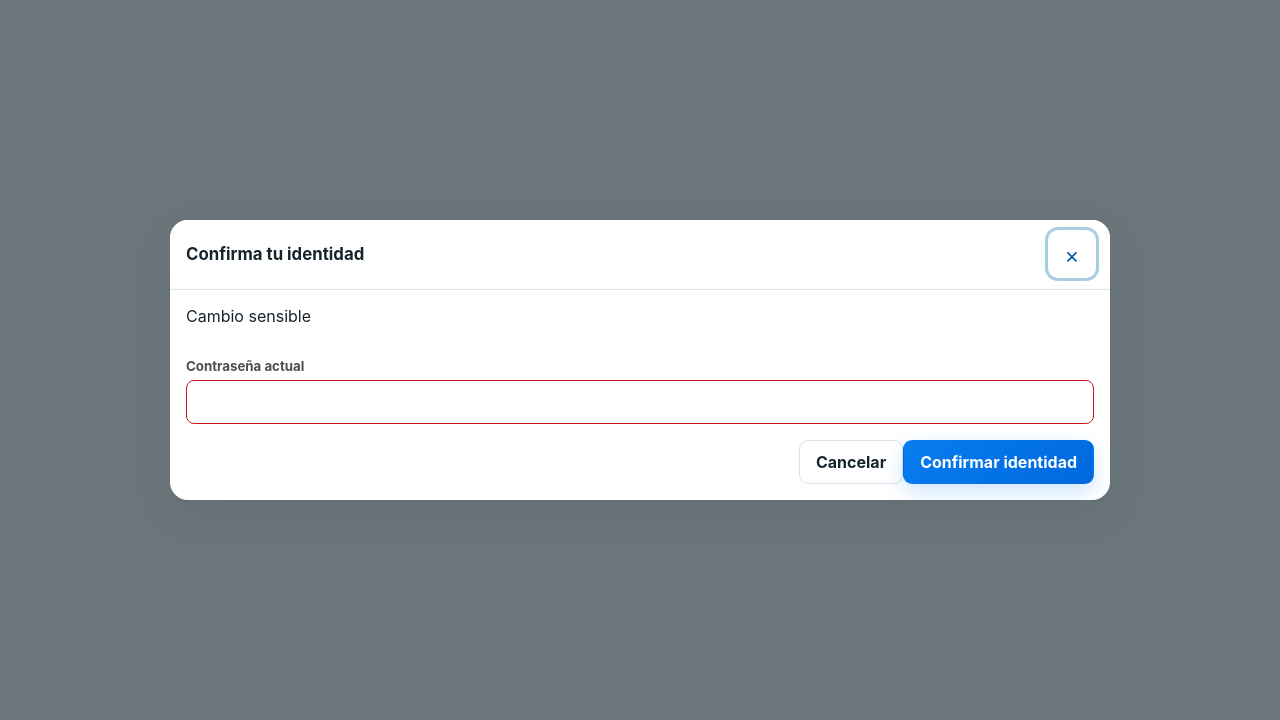
Test: ReauthenticationModal › maps an incorrect password without invoking the protected mutation
In the password field labelled "Contraseña actual": (640, 402) [186,380,1094,424], type "Incorrecta"
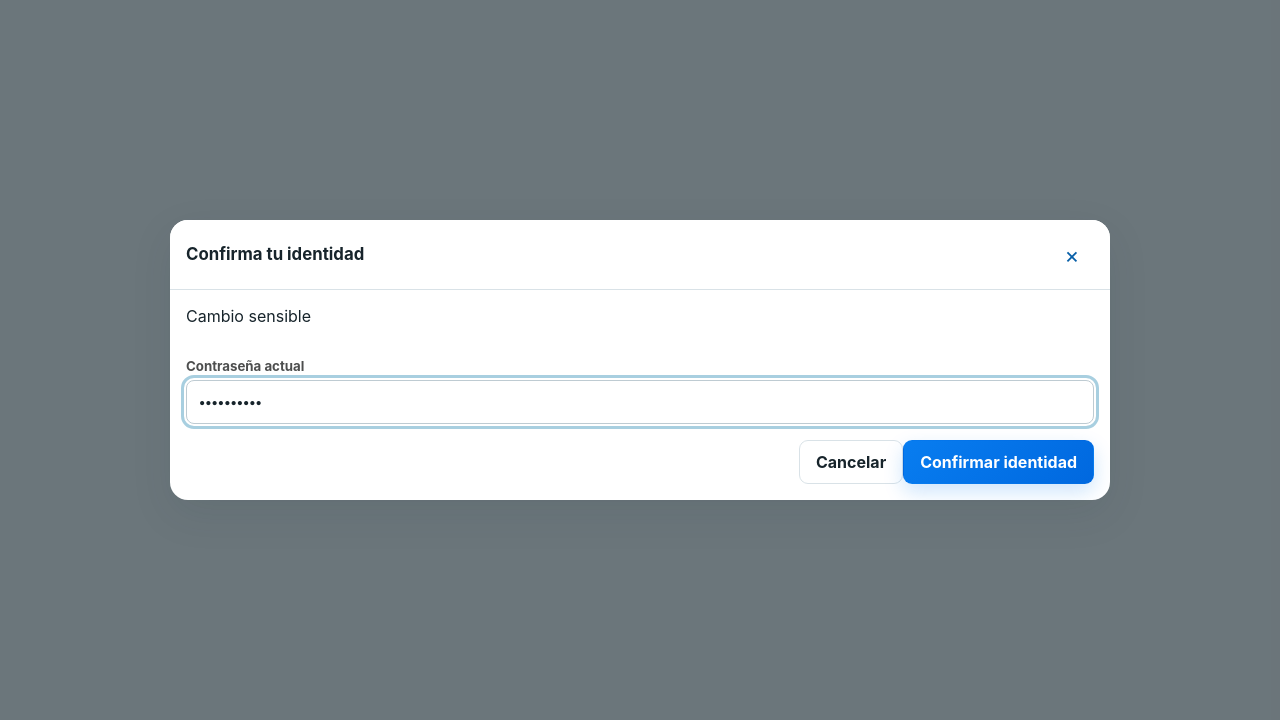
Click the button "Confirmar identidad": (999, 462) [903,440,1094,484]
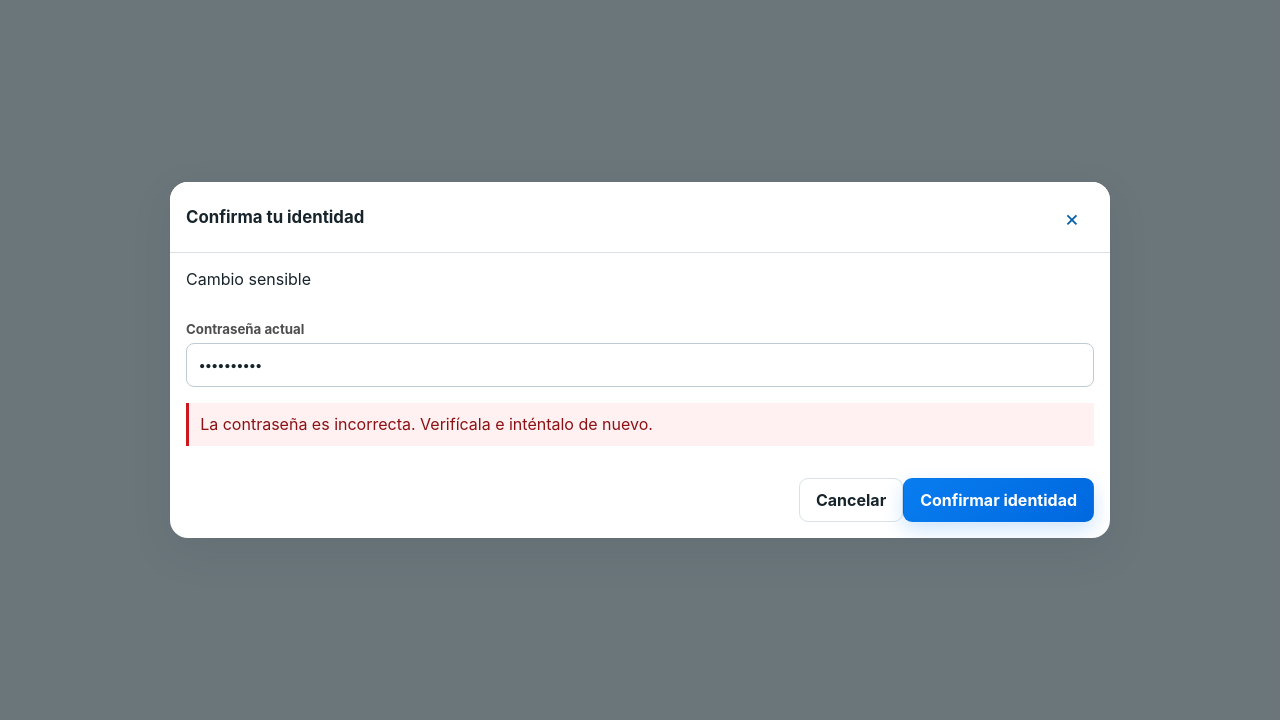
Result: the text "contraseña es incorrecta" is shown at [200,414,653,434]
